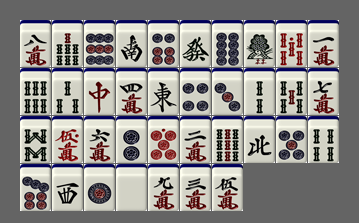0m: (52, 116, 83, 163)
0p: (148, 116, 179, 163)
0s: (276, 20, 307, 67)
1m: (308, 20, 339, 67)
1p: (84, 164, 115, 211)
1s: (244, 20, 275, 67)
1z: (148, 68, 179, 115)
2m: (180, 116, 211, 163)
2p: (116, 116, 147, 163)
2s: (244, 68, 275, 115)
2z: (116, 20, 147, 67)
3m: (180, 164, 211, 211)
3p: (212, 68, 243, 115)
3s: (52, 68, 83, 115)
3z: (52, 164, 83, 211)
4m: (116, 68, 147, 115)
4p: (180, 68, 211, 115)
4s: (308, 116, 339, 163)
4z: (244, 116, 275, 163)
5m: (212, 164, 243, 211)
5p: (276, 116, 307, 163)
5s: (276, 68, 307, 115)
5z: (116, 164, 147, 211)
6m: (84, 116, 115, 163)
6p: (148, 20, 179, 67)
6s: (20, 68, 51, 115)
6z: (180, 20, 211, 67)
7m: (308, 68, 339, 115)
7p: (20, 164, 51, 211)
7s: (52, 20, 83, 67)
7z: (84, 68, 115, 115)
8m: (20, 20, 51, 67)
8p: (212, 20, 243, 67)
8s: (20, 116, 51, 163)
9m: (148, 164, 179, 211)
9p: (84, 20, 115, 67)
9s: (212, 116, 243, 163)
